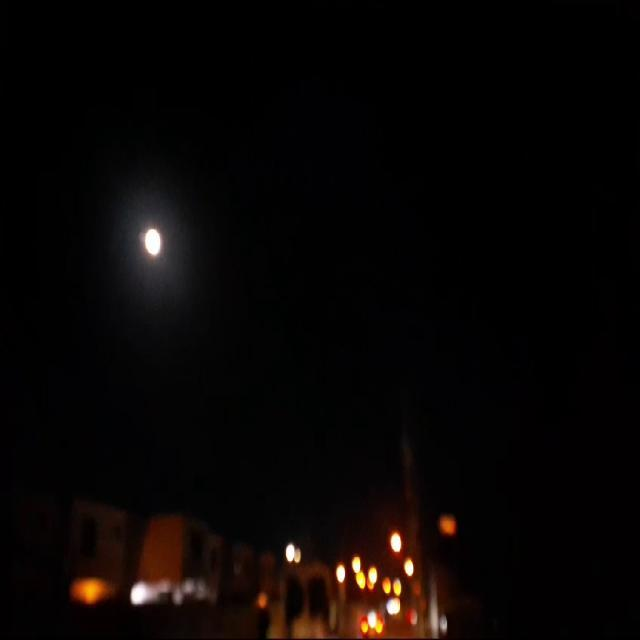moon: (140, 211, 160, 247)
